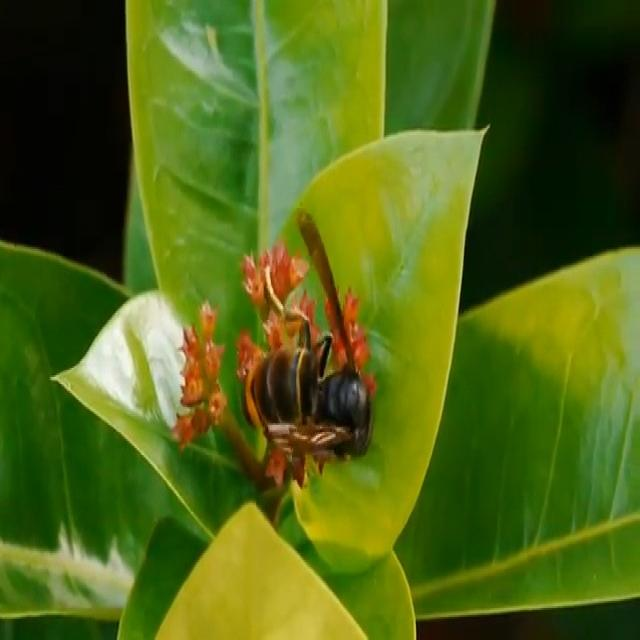Hornets: (239, 205, 376, 501)
